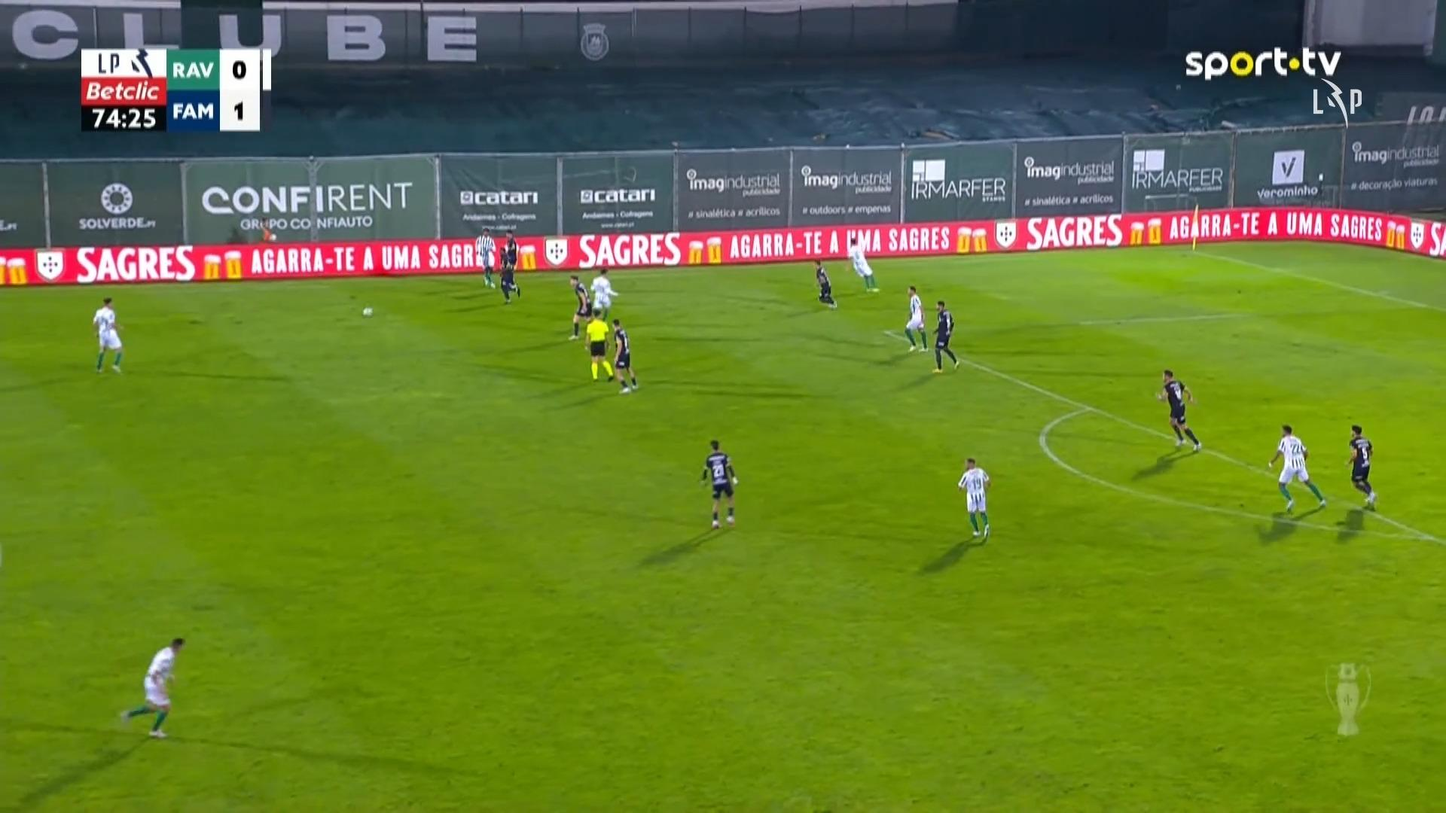ball: (362, 307, 372, 317), (731, 476, 737, 485)
player: (118, 635, 185, 738), (1266, 423, 1327, 514), (1156, 368, 1201, 452), (698, 438, 738, 528), (956, 456, 991, 540), (1345, 423, 1377, 510), (92, 296, 124, 373), (610, 318, 639, 394), (931, 299, 959, 373), (847, 236, 880, 292), (497, 230, 520, 303), (567, 273, 592, 340), (904, 285, 928, 352), (590, 266, 619, 321), (474, 226, 496, 288), (813, 259, 837, 309)
referee: (583, 307, 615, 381)
